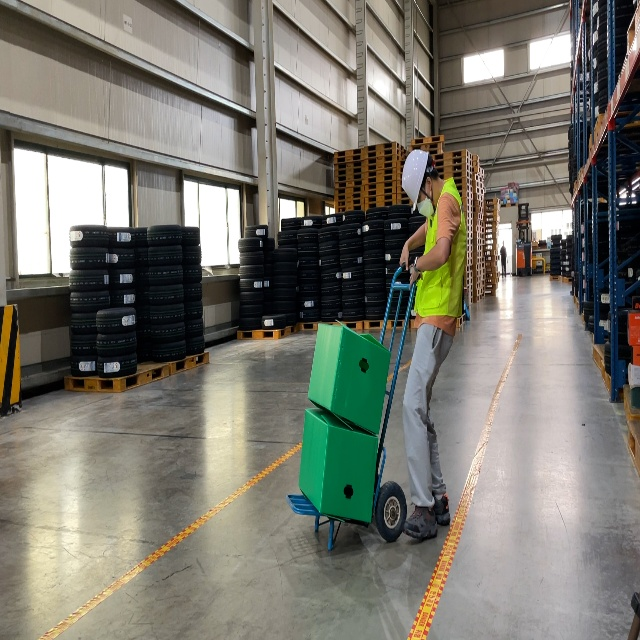Box: (307, 317, 392, 435), (297, 406, 379, 523)
Worker: (399, 150, 467, 540)
